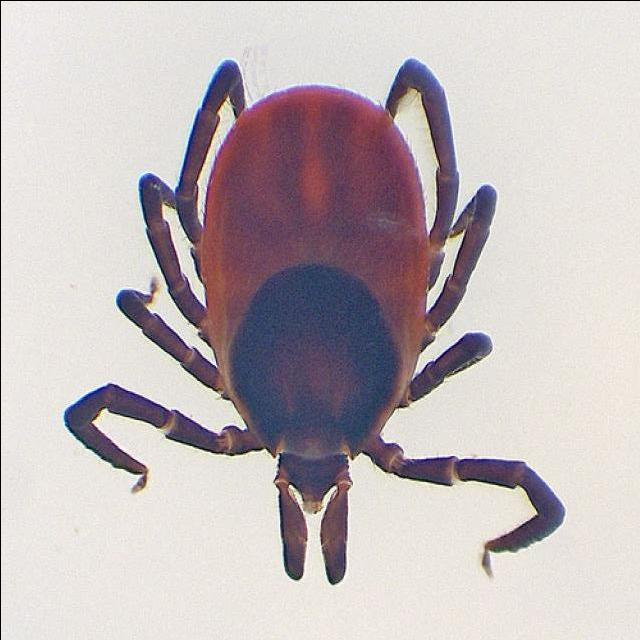Ixodes Ricinus-F: (60, 55, 567, 582)
